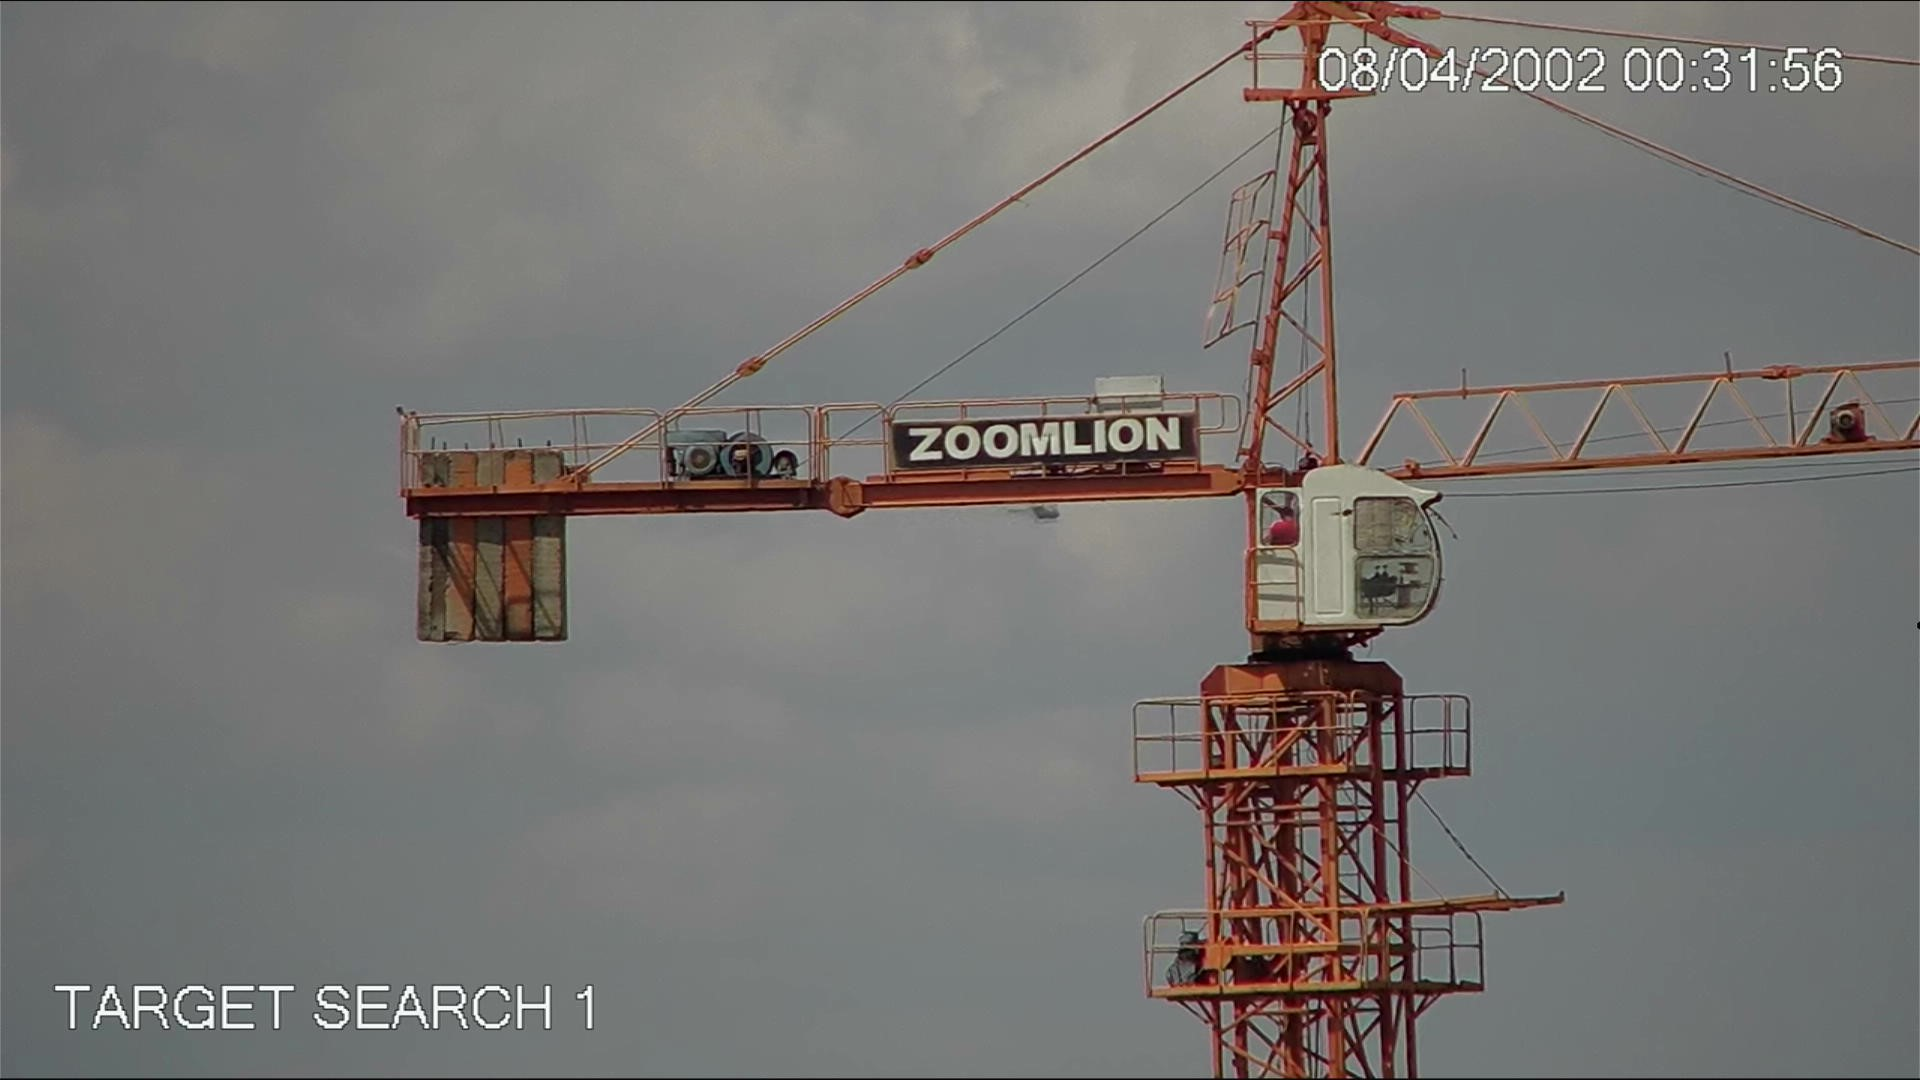SU_30: (1005, 505, 1067, 527)
